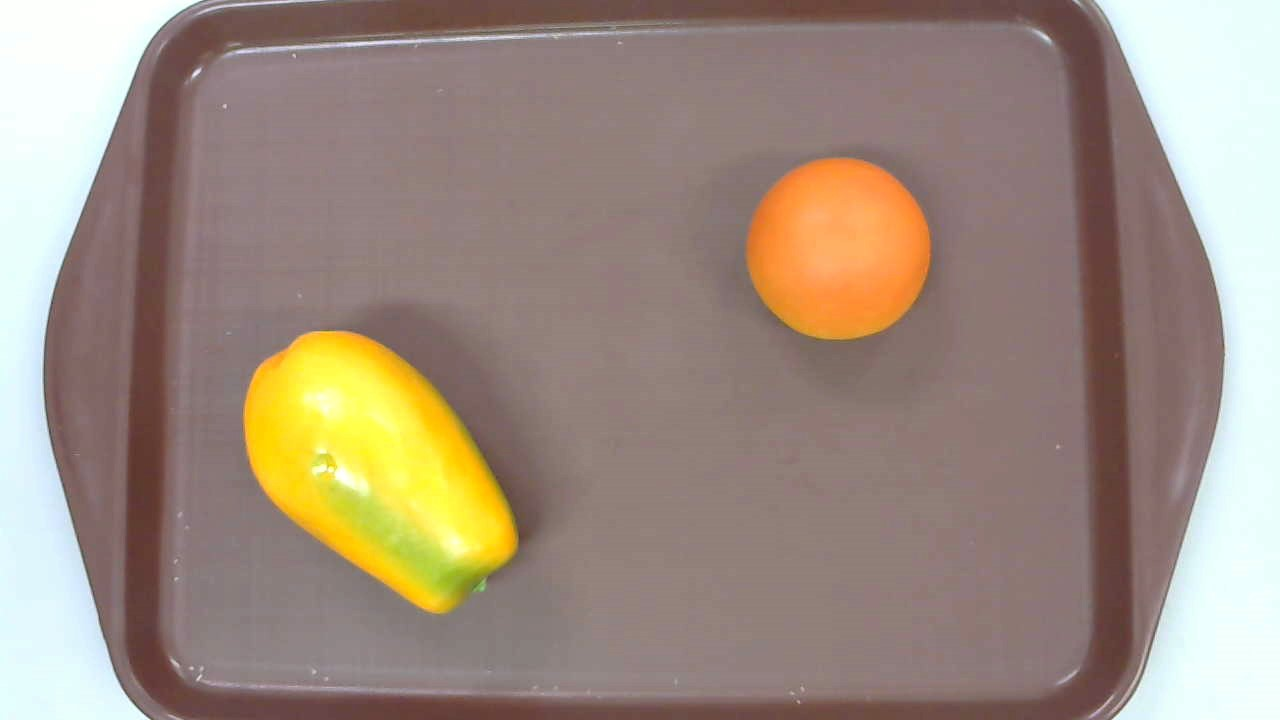bun: (746, 157, 930, 341)
papya: (242, 329, 519, 616)
